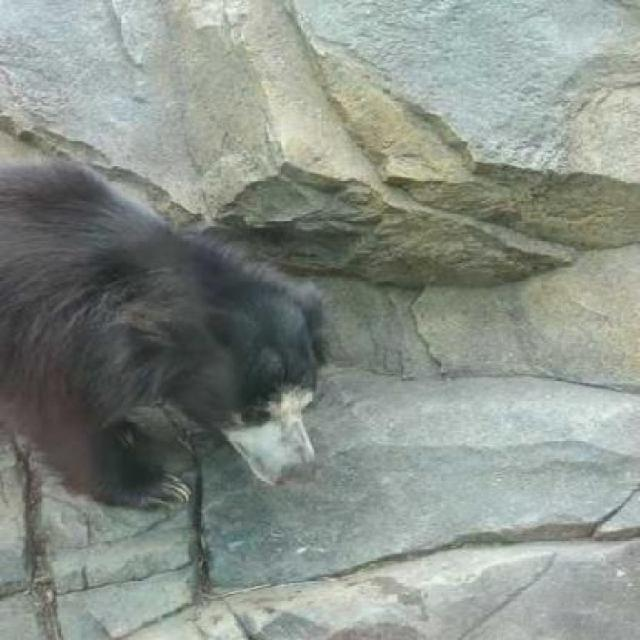Bear: (0, 130, 365, 572)
